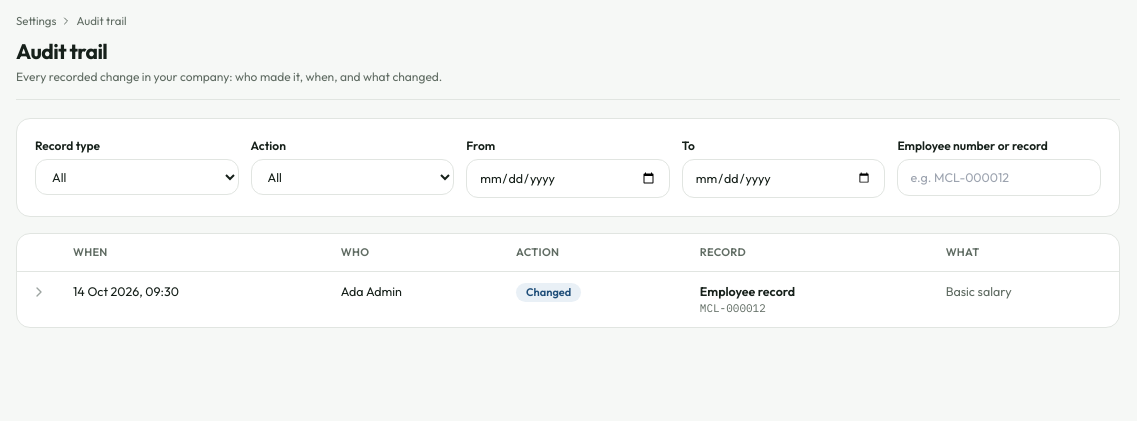
Test: Audit trail page › lists who changed which record and shows the field before and after
Expected: the text "Ada Admin" is shown, [329,271,504,327]
Expected: the text "Employee record" is shown, [700,282,795,298]
Click the button named "Show the changes" at (39, 292), box [29,282,49,302]
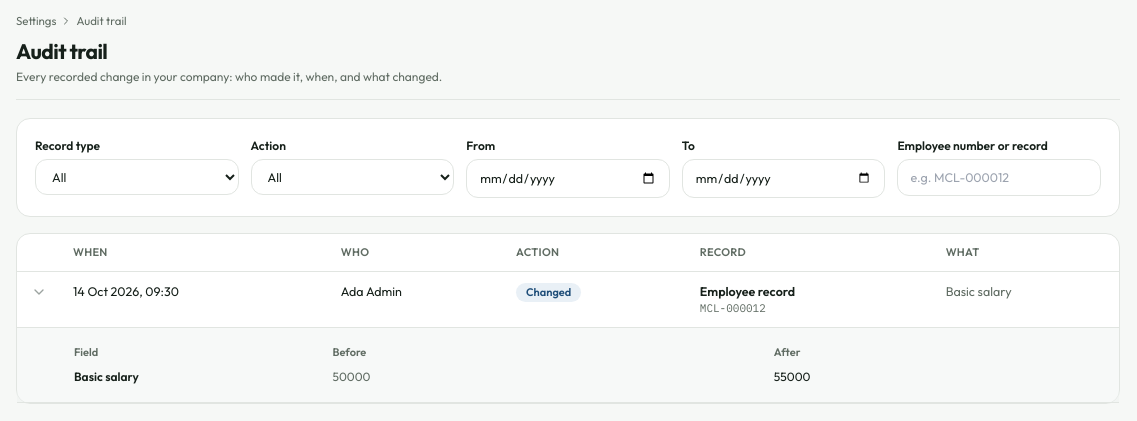
Now the text "50000" is shown, box [332,364,773,390]
Now the text "55000" is shown, box [773,364,1107,390]
